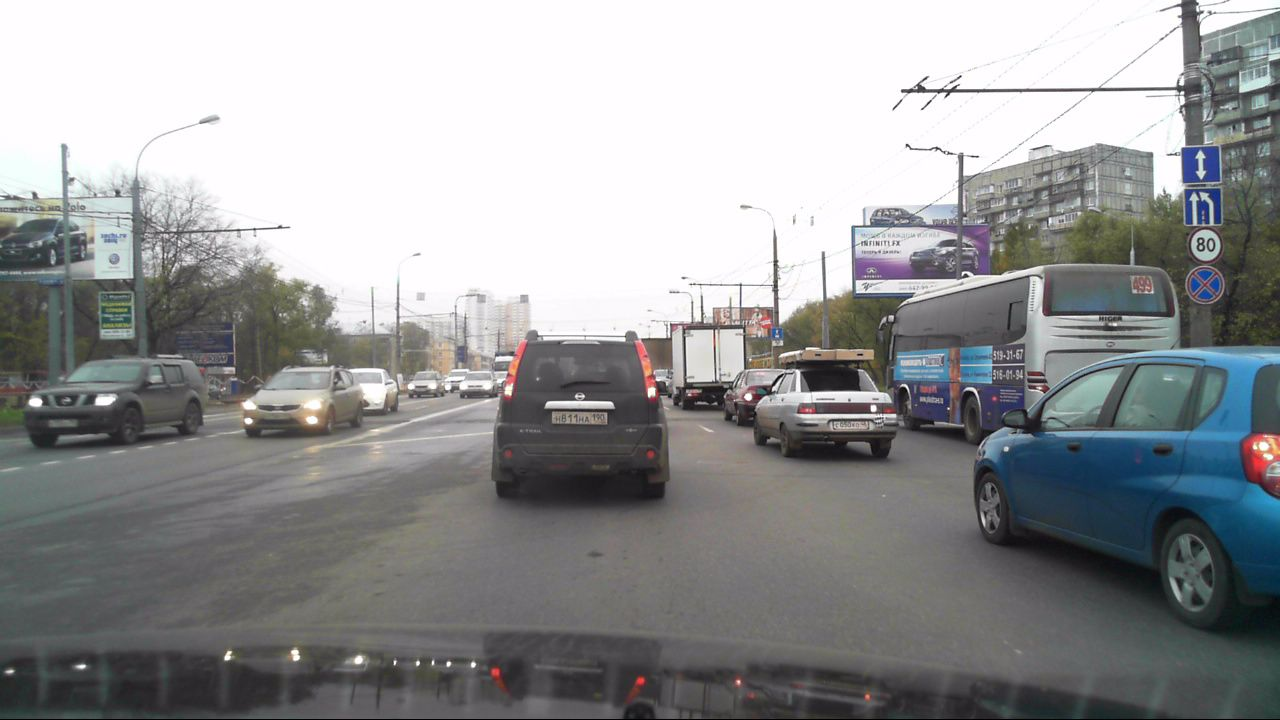No Parking: (1186, 265, 1223, 302)
